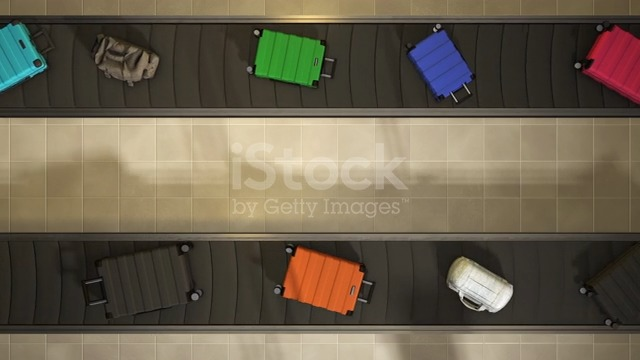Bag: (75, 240, 205, 324), (269, 241, 379, 322), (241, 23, 342, 91), (399, 25, 478, 108), (573, 25, 640, 108), (577, 244, 640, 332), (88, 28, 166, 94), (442, 251, 518, 318), (0, 20, 56, 101)
Handle: (79, 277, 110, 309), (30, 27, 55, 56), (356, 278, 376, 307), (320, 56, 341, 83), (449, 83, 474, 105)
Straps: (459, 293, 484, 311)
